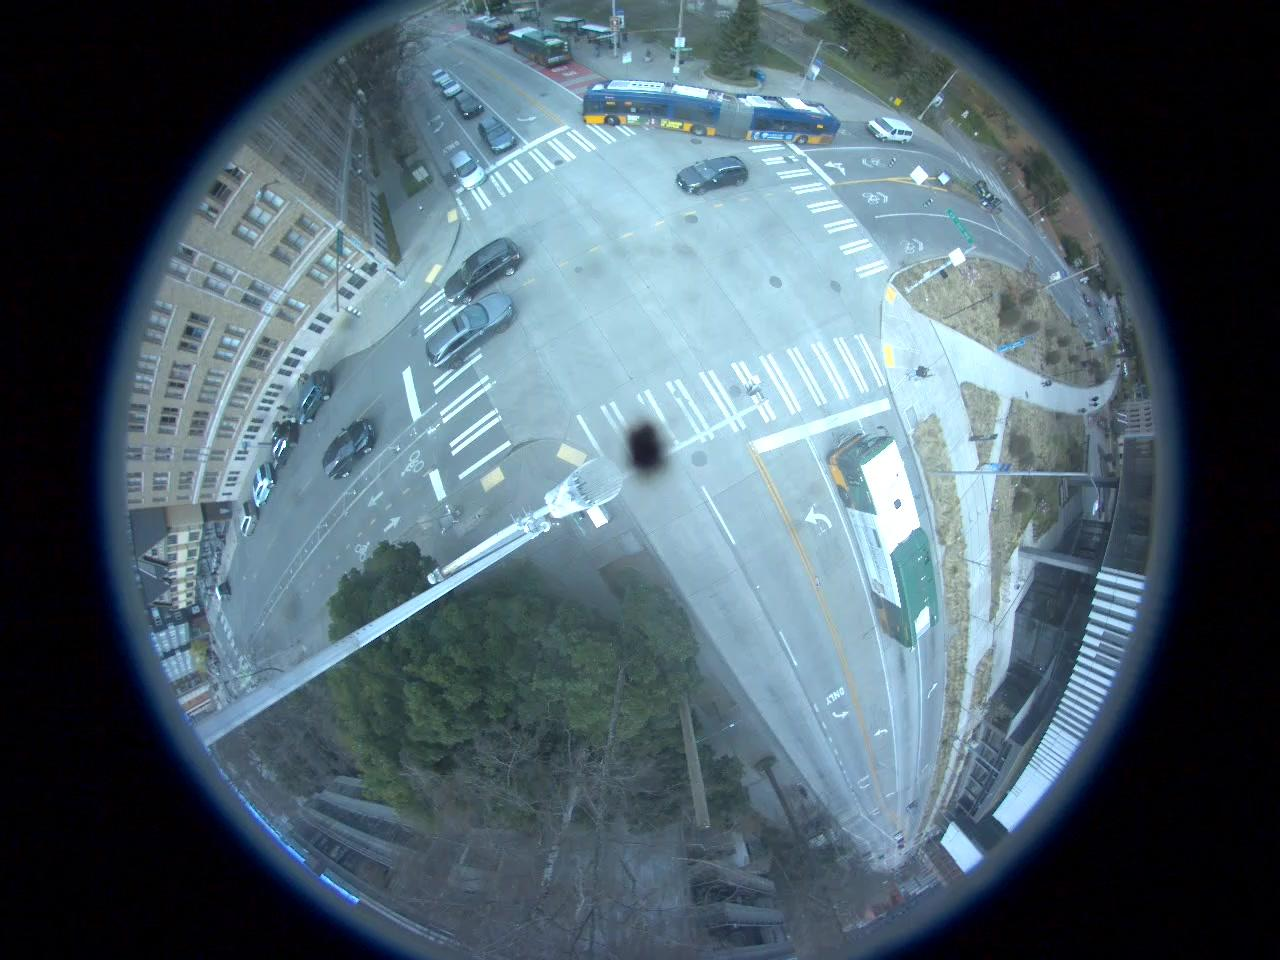bus: (832, 433, 944, 644), (580, 81, 839, 147), (512, 28, 578, 69), (466, 14, 512, 42)
car: (429, 296, 514, 364), (449, 238, 519, 299), (322, 417, 377, 483), (679, 157, 750, 195), (300, 371, 331, 425), (451, 148, 486, 191), (480, 116, 514, 154), (869, 117, 916, 144), (252, 461, 274, 504), (454, 92, 484, 123), (274, 422, 293, 470), (240, 503, 258, 534), (440, 76, 460, 98)
person: (906, 364, 932, 380)
